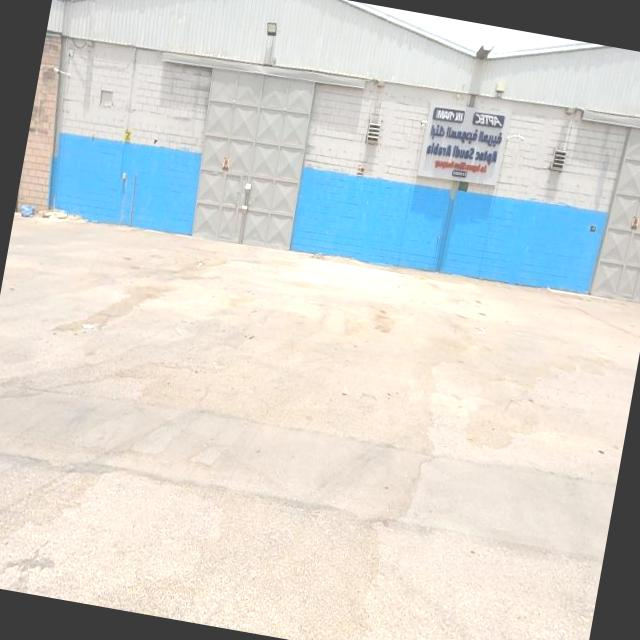debris: (9, 159, 77, 250)
